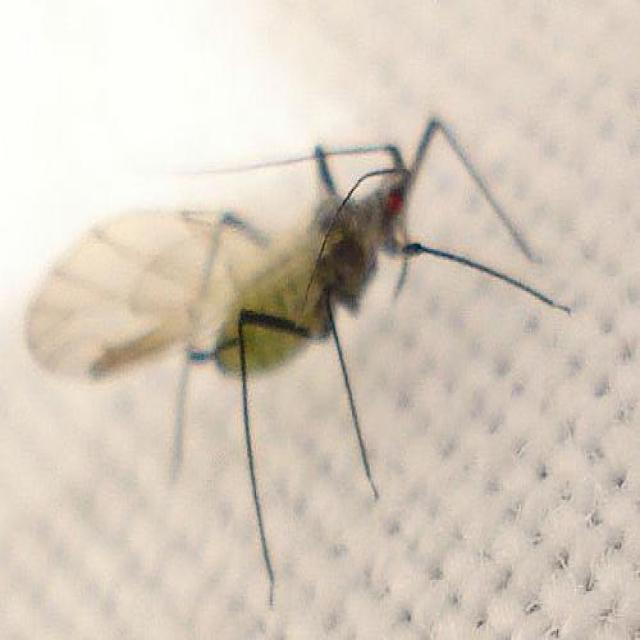Aphids: (54, 70, 568, 587)
